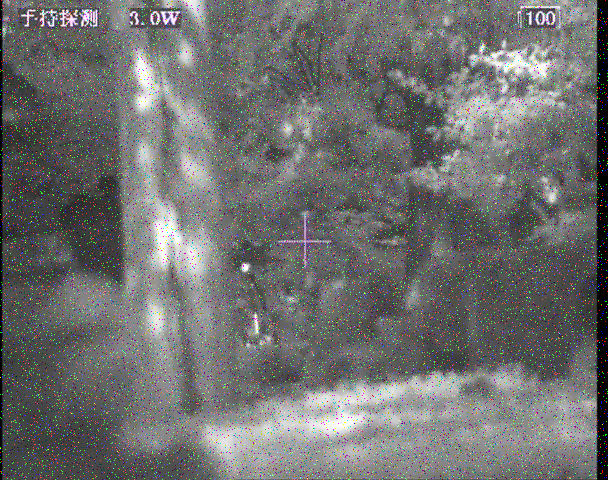my: (240, 262, 251, 273)
